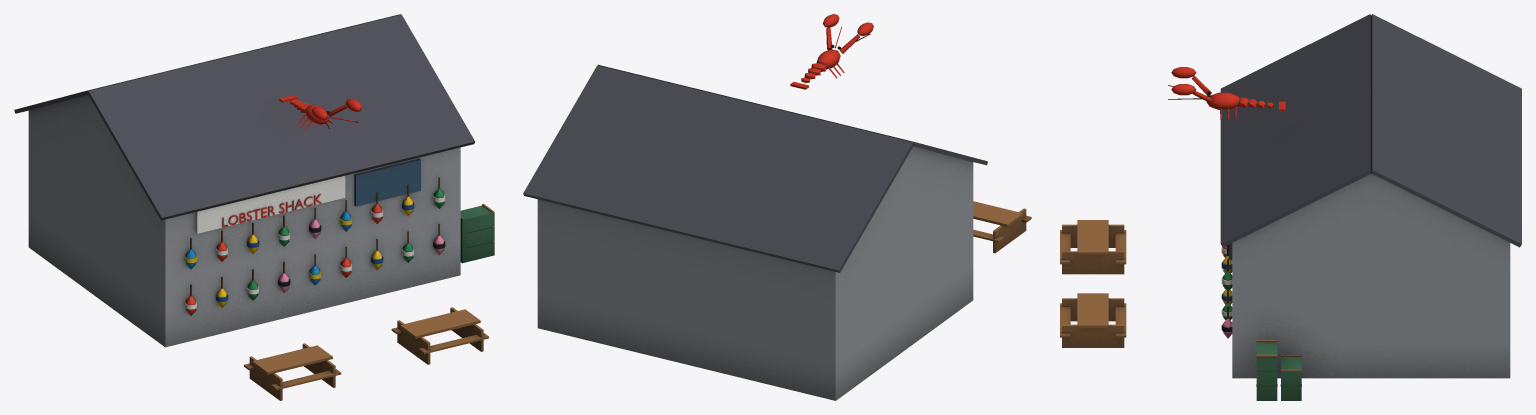
Rendered from casa_langostas.glb.
3 views of the same model, side by side, from view 1: azimuth 30°, elevation 25°; view 2: azimuth 150°, elevation 25°; view 3: azimuth 270°, elevation 25° (orthographic).
Parts seen in each view (by area): view 1: casa_langostas; view 2: casa_langostas; view 3: casa_langostas.
Boxes of the visible parts, x1=… form: casa_langostas: x1=14, y1=14, x2=494, y2=400; casa_langostas: x1=523, y1=14, x2=1031, y2=400; casa_langostas: x1=1060, y1=14, x2=1521, y2=400.
Size of the model in its own units: 11.85 by 7.26 by 13.28.
1 material, 1 textured.
